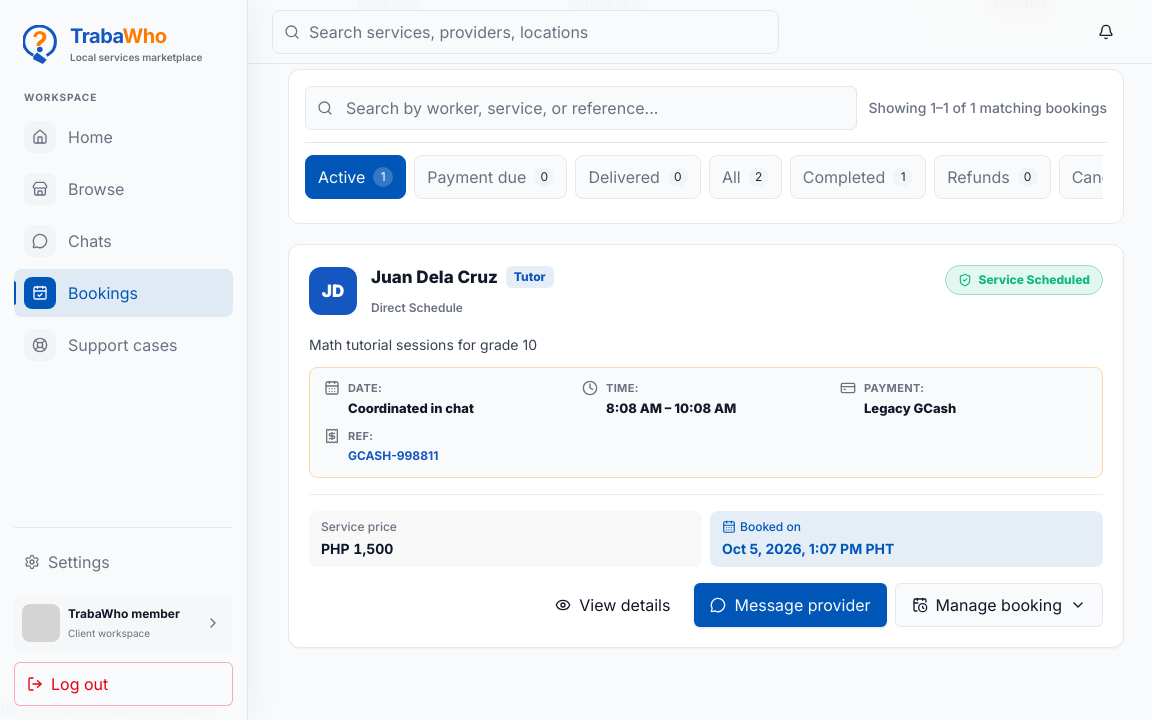
Test case: MyBookings Redesign Component › opens booking details from a card
The width and height of the screenshot is (1152, 720).
(page scrolled)
Step 1. Click the button "View details" → {"x": 613, "y": 605}, box [539,583,686,627]
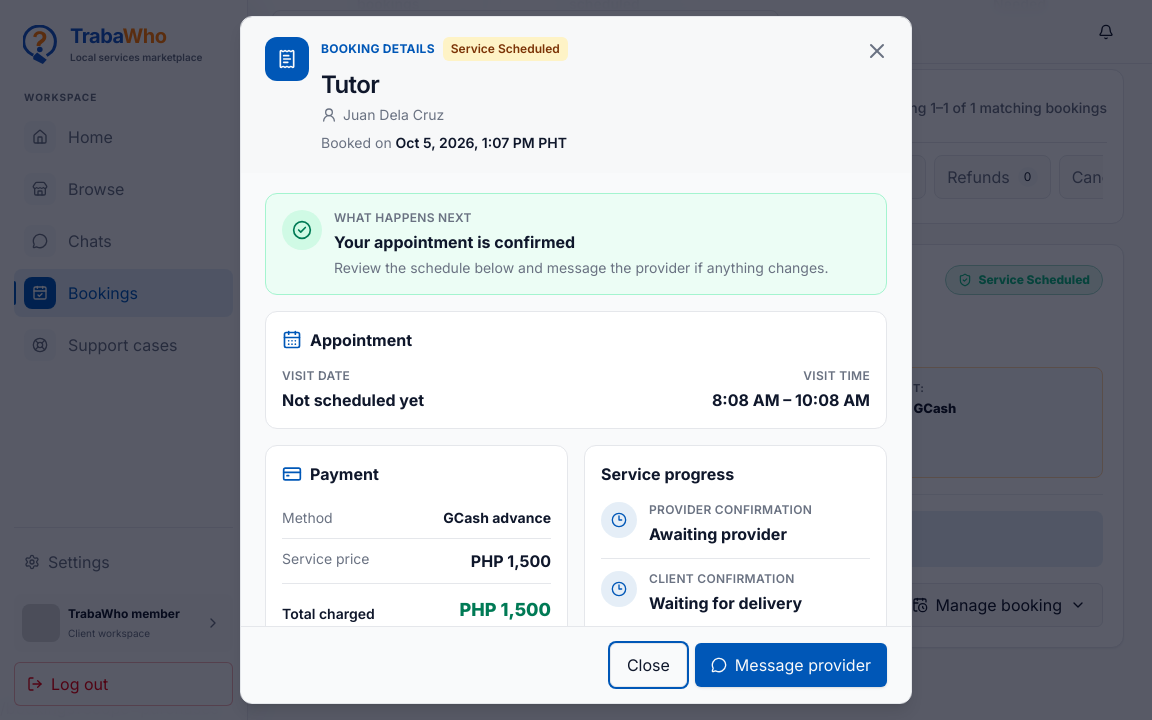
Check: the dialog "Tutor" is shown, box [240,16,912,704]
Check: the dialog "Tutor" shows "Booked on", box [321,134,396,151]
Check: the dialog "Tutor" shows "Oct 5, 2026", box [396,134,567,151]
